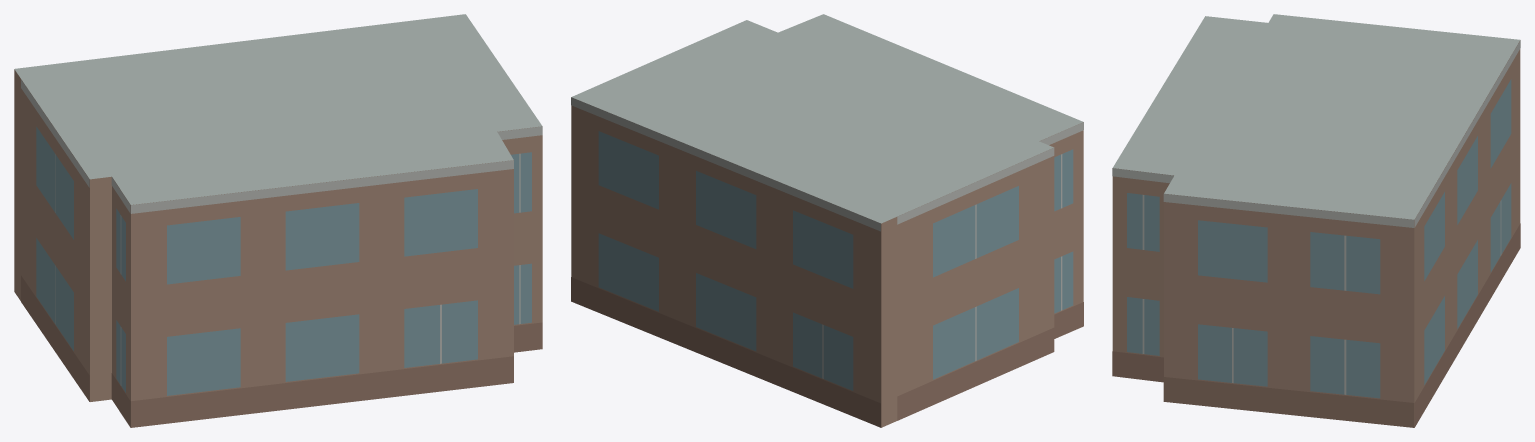
Rendered from survey-upis-32538072.glb.
3 views of the same model, side by side, from view 1: azimuth 30°, elevation 25°; view 2: azimuth 150°, elevation 25°; view 3: azimuth 270°, elevation 25° (orthographic). The views are drawn at different scales.
Parts seen in each view (by area): view 1: survey-upis-32538072.tmp; view 2: survey-upis-32538072.tmp; view 3: survey-upis-32538072.tmp.
Boxes of the visible parts, x1,y1,x2,y2 form: survey-upis-32538072.tmp: (14,14,542,427); survey-upis-32538072.tmp: (571,14,1083,427); survey-upis-32538072.tmp: (1112,14,1520,427).
Size of the model in its own units: 12.94 by 6.1 by 10.85.
